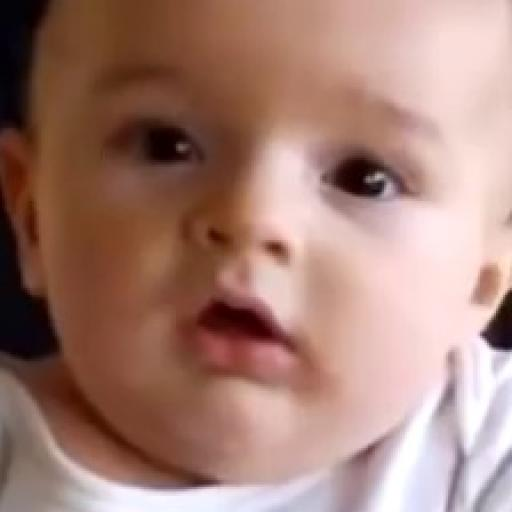Autism: (49, 20, 512, 415)
